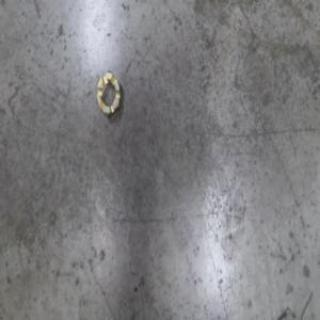Nuttrack_idkeyframe: (94, 66, 122, 116)
